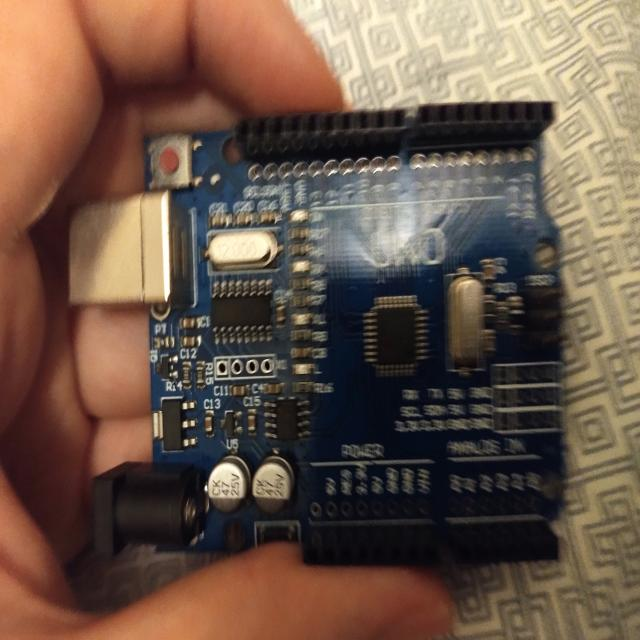arduino: (58, 110, 574, 568)
